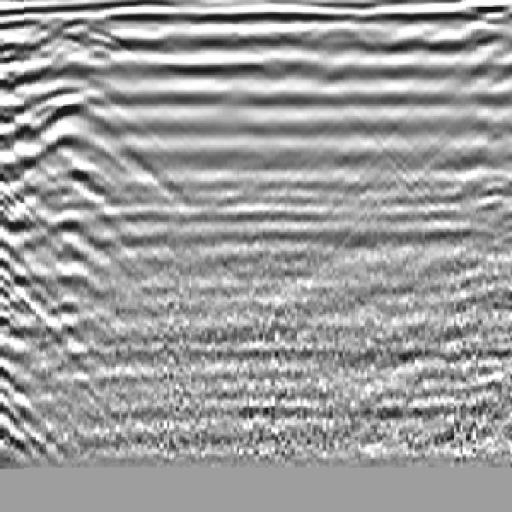metalic: (1, 19, 199, 279)
